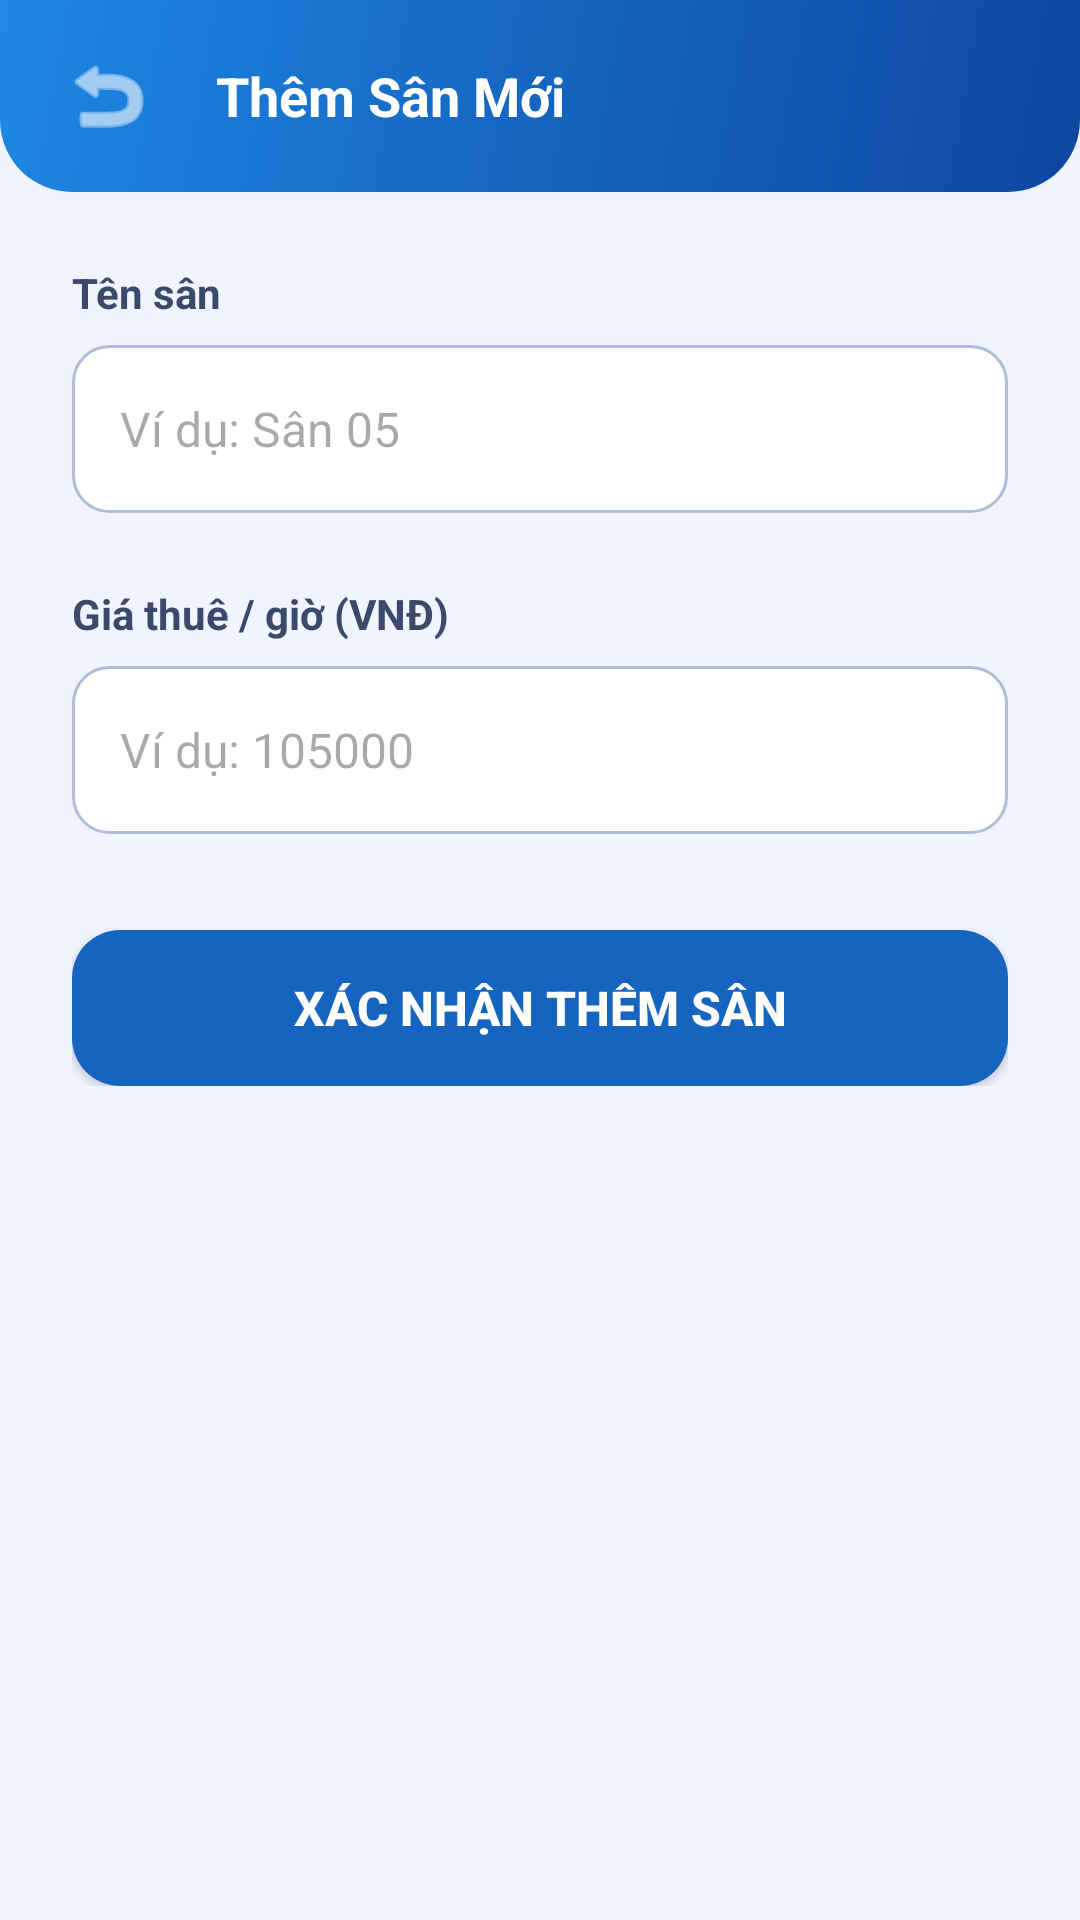

Named icons in this screenshot (1080w x 1920h) and their bounding boxes, (x1, y1, x2, y2):
revert: (75, 65, 144, 128)
